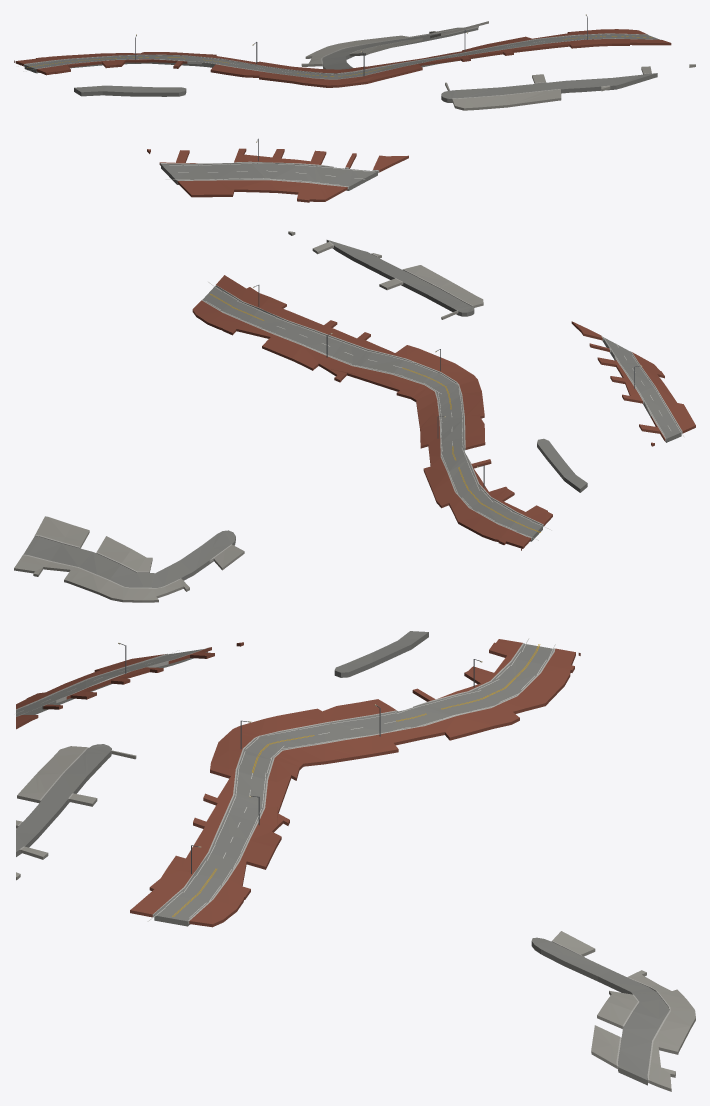
The picture shows the model from 3 angles, top to bottom: view 1: azimuth 30°, elevation 25°; view 2: azimuth 150°, elevation 25°; view 3: azimuth 270°, elevation 25°; orthographic projection. The views are drawn at different scales.
Bounding box in the file's own units: 153 × 48.51 × 143.
